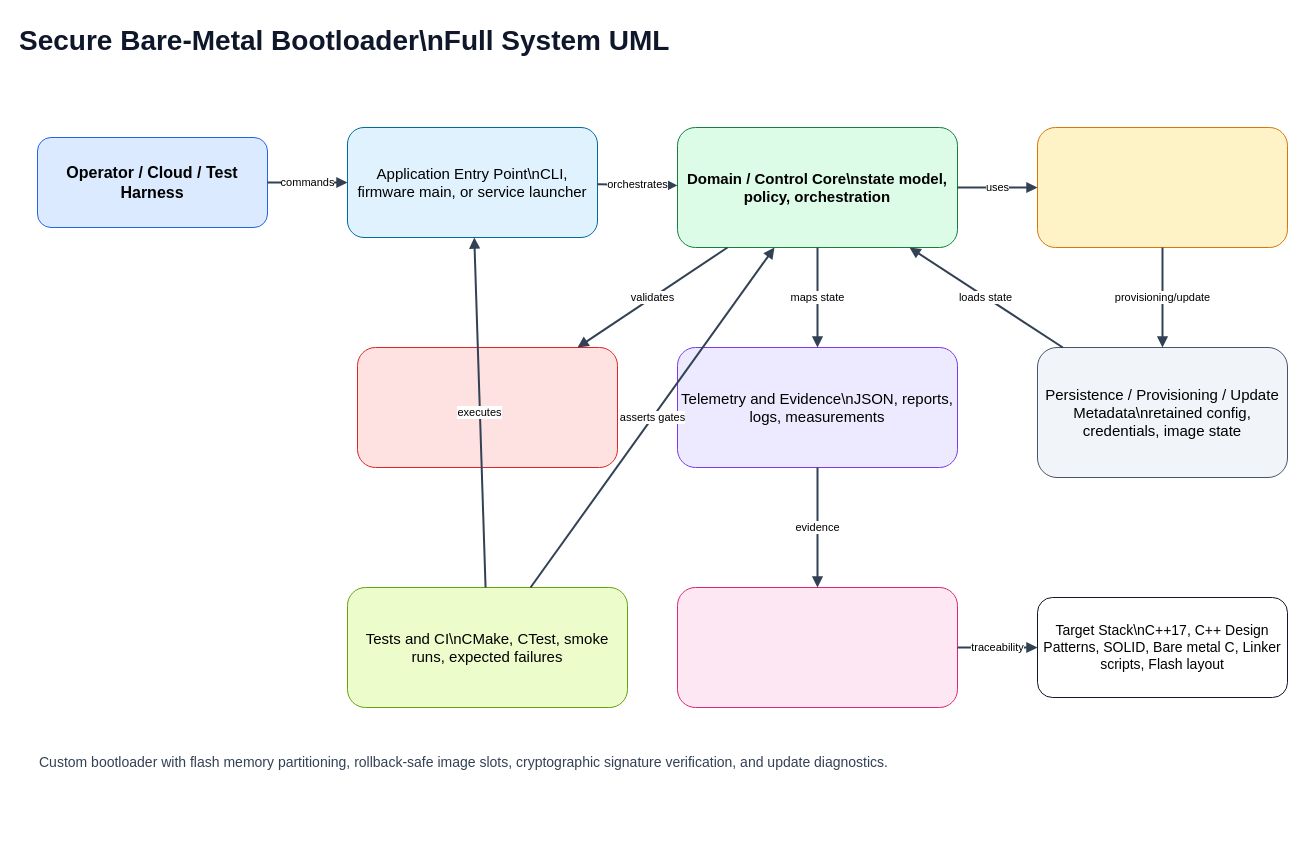
Image size: 1305x844. Some labels were removed from this diagram. The box of each missing label's shape, as (x1, y1, x2, y2) in pixels:
Documentation Package\nREADME, architecture, validation plan, UML: (676, 586, 958, 708)
Hardware and Simulator Adapters\nsensors, buses, files, transports: (1036, 126, 1288, 248)
Safety / Readiness Gates\nconfig, battery, timing, OTA, bounds: (356, 346, 618, 468)
